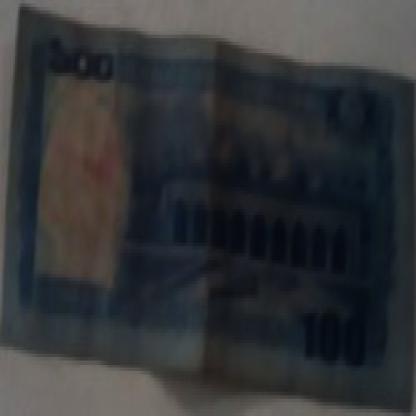Ten Taka: (45, 28, 123, 90)
one hundred taka: (296, 295, 376, 378), (45, 28, 123, 86)
